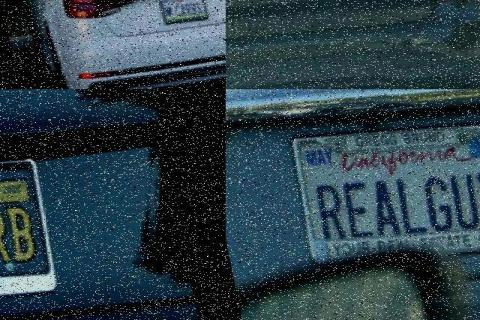LicensePlate: (287, 117, 480, 273), (0, 148, 116, 316), (225, 0, 307, 29), (159, 0, 210, 26)
